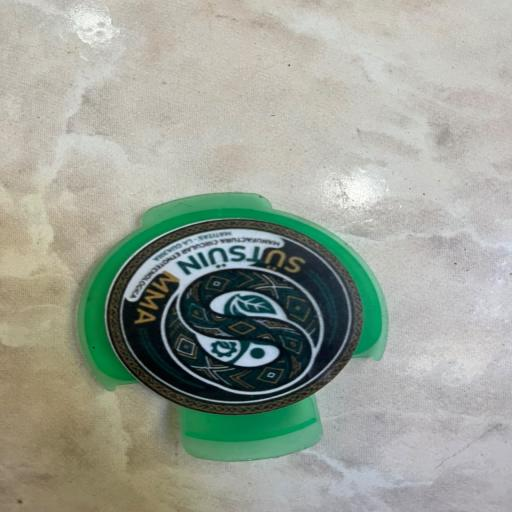HDPE: (63, 177, 462, 502)
